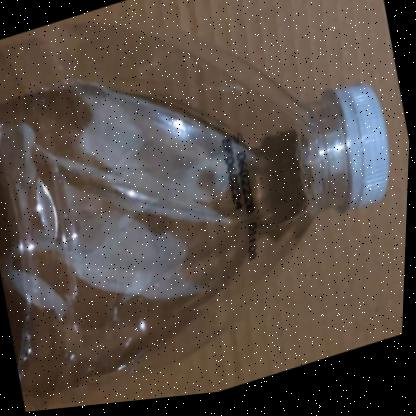bottle cap: (129, 1, 416, 383)
